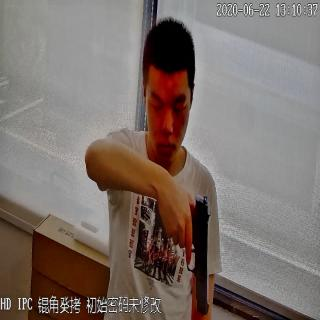gun: (159, 190, 215, 318)
